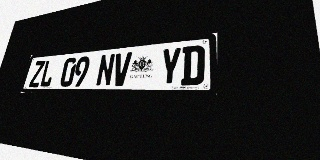0: (59, 57, 78, 87)
9: (72, 56, 91, 87)
D: (180, 45, 205, 85)
L: (39, 59, 56, 87)
N: (95, 53, 116, 86)
V: (111, 52, 132, 86)
Y: (159, 47, 182, 86)
Z: (28, 60, 45, 87)
